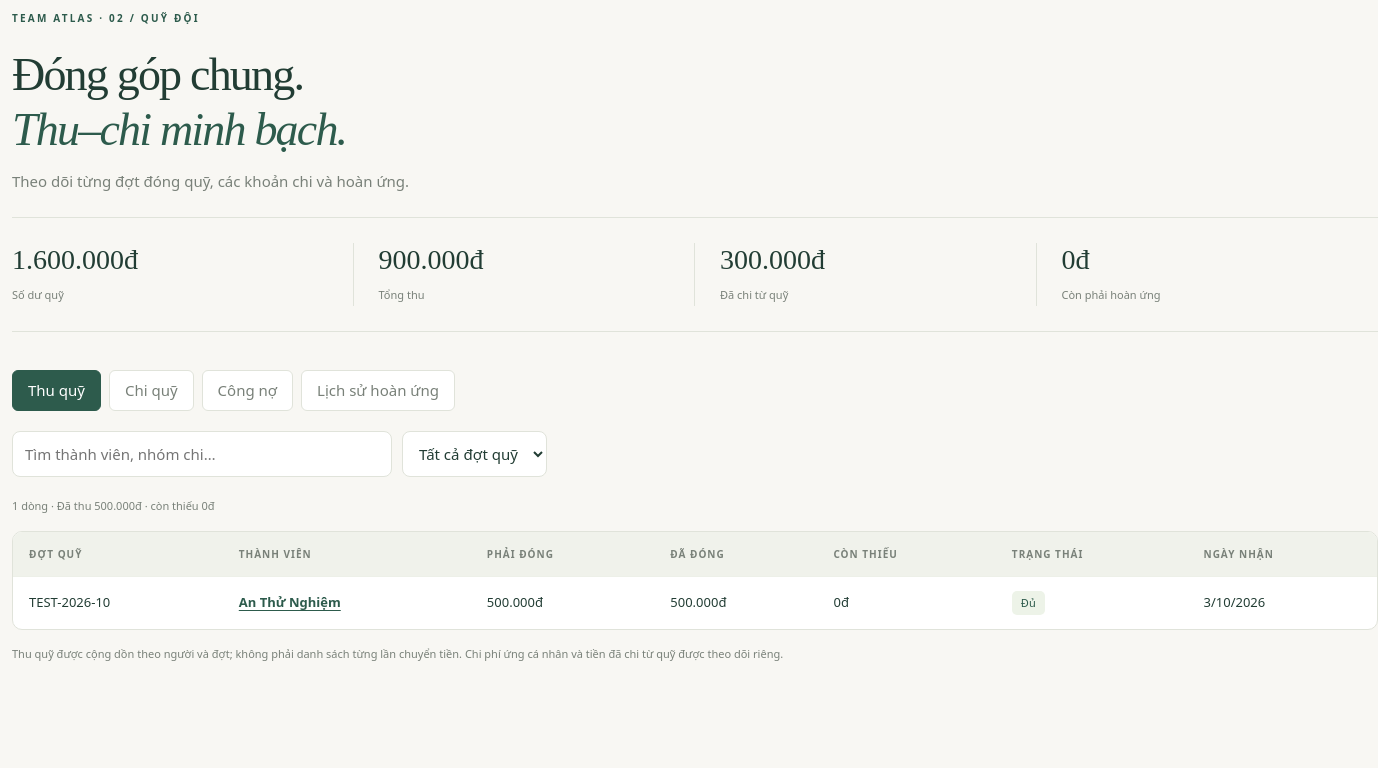
FinancePage › filters the refund tab by months of the refund dates, not the expense dates
Click the button "Lịch sử hoàn ứng" at (378, 390), box [301, 370, 455, 411]
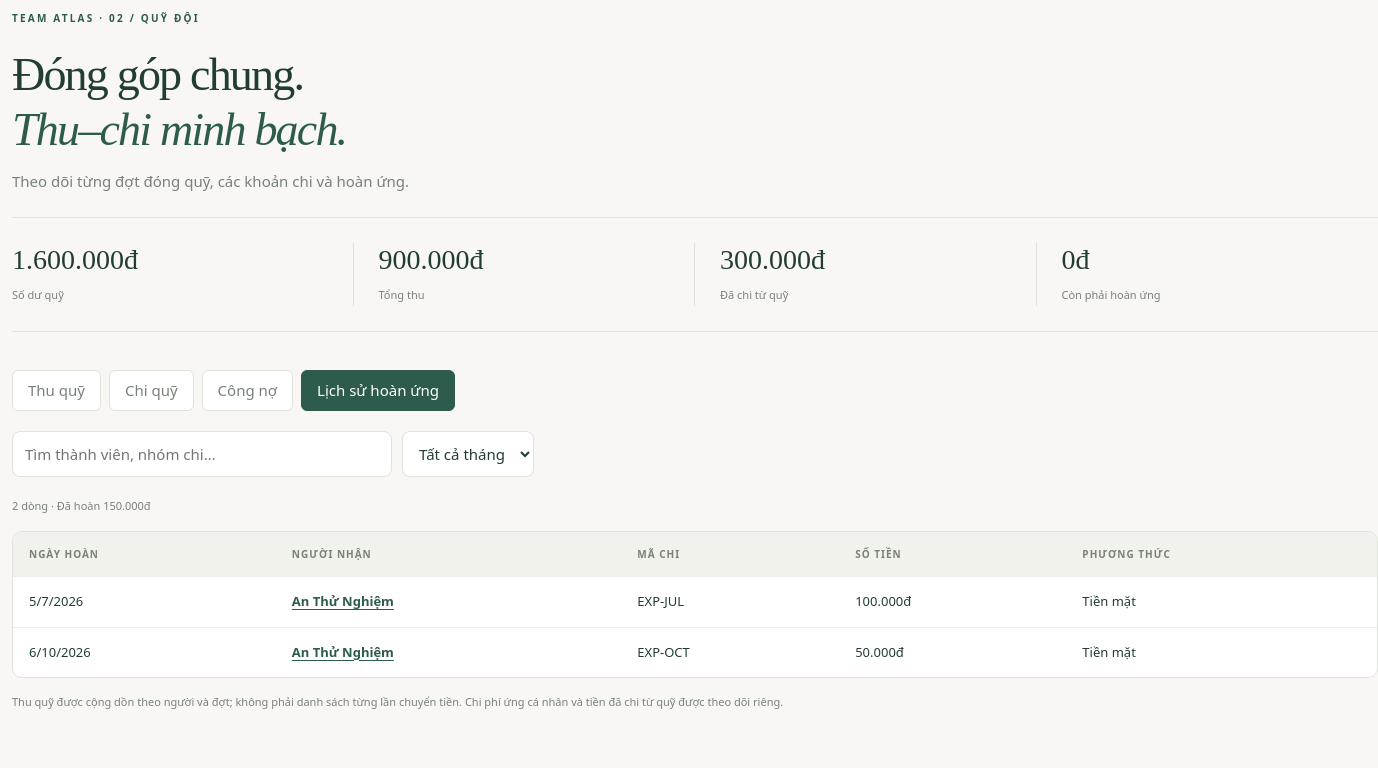
Select "2026-07" in the dropdown named "Lọc tháng" at (468, 454), box [402, 431, 534, 478]
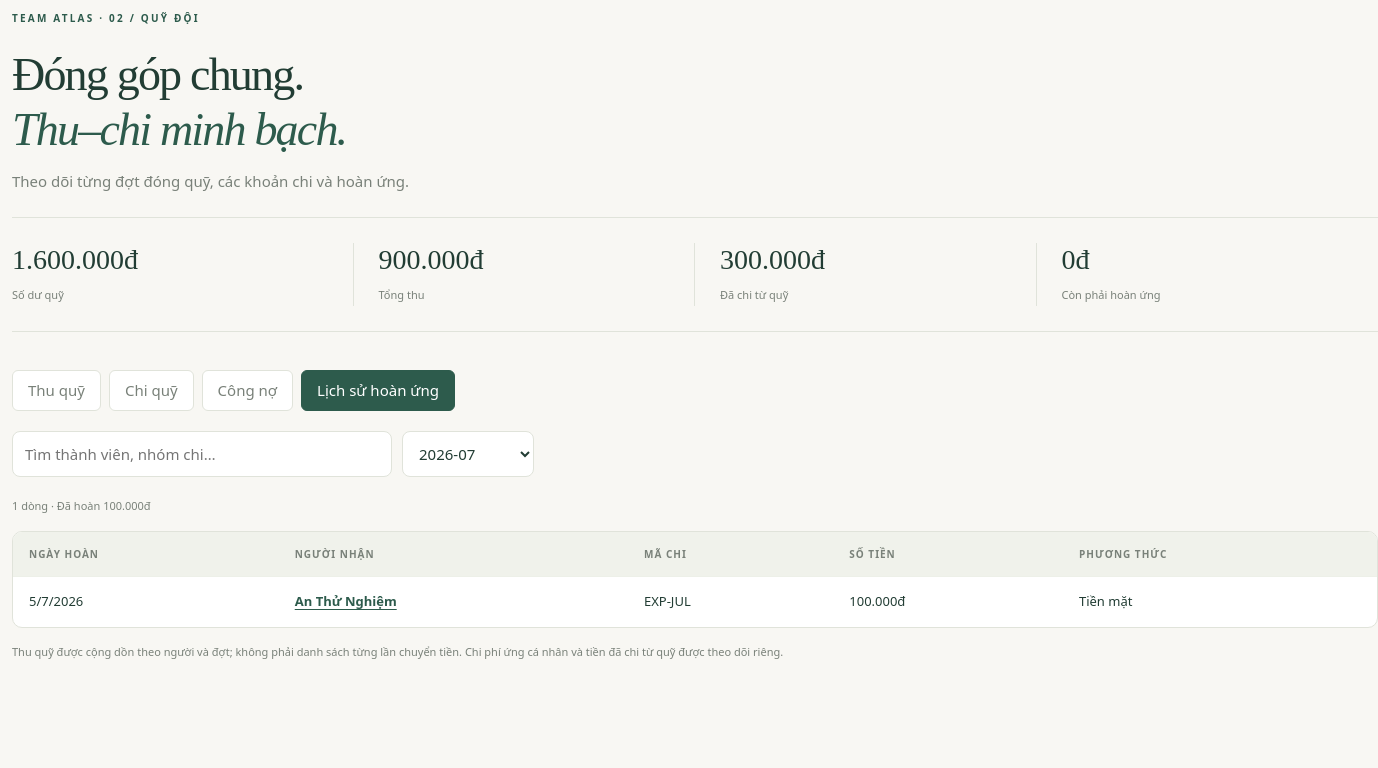
Result: the text "EXP-JUL" is shown at [628, 577, 833, 626]
Result: the text "EXP-OCT" is gone
